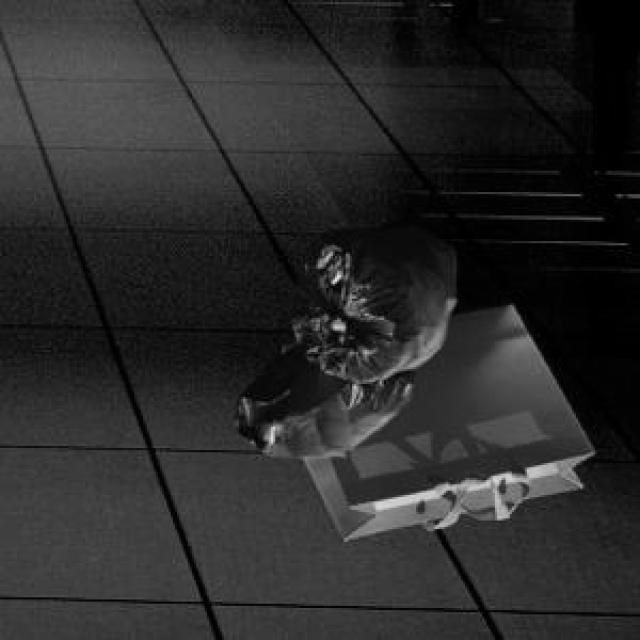miscellaneous trash: (233, 224, 452, 452)
paper: (299, 301, 591, 536)
